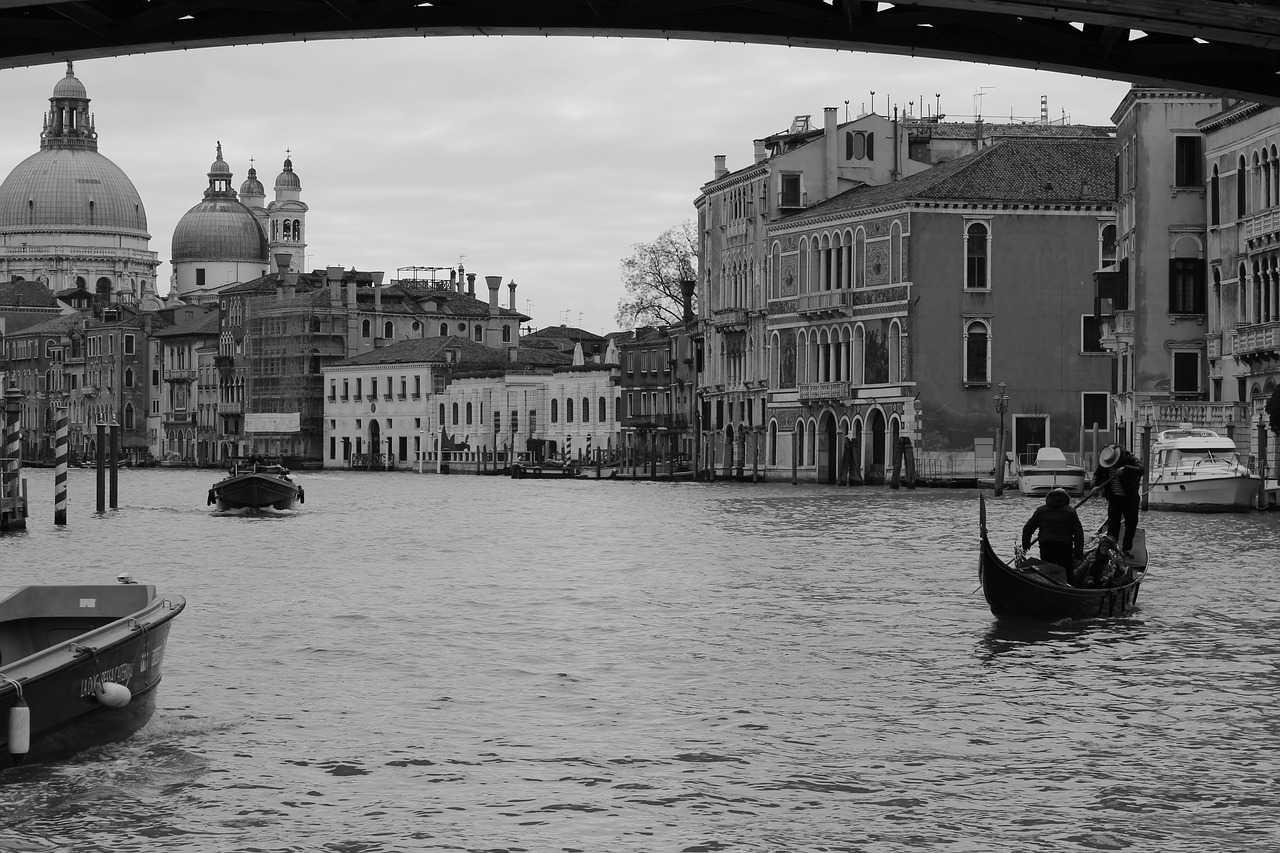kayak: (0, 579, 187, 768), (978, 494, 1146, 623), (1145, 424, 1264, 512), (207, 458, 305, 514), (1018, 446, 1087, 497), (511, 460, 578, 479)
